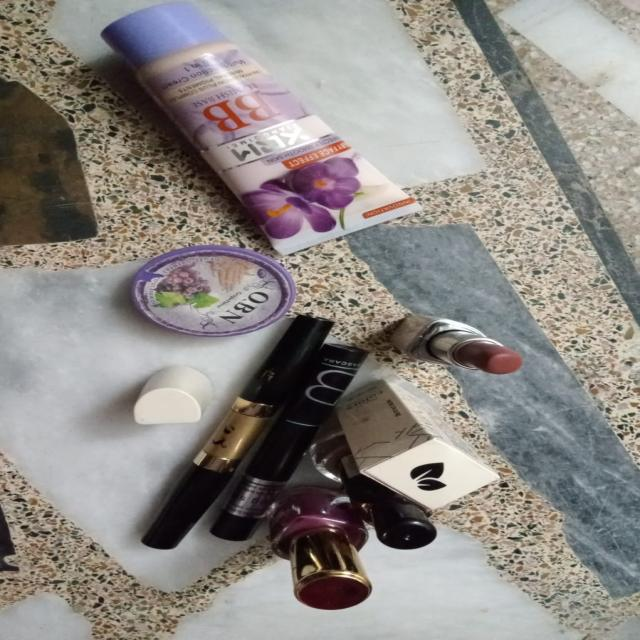bb cream: (87, 2, 444, 256)
lip stick: (378, 299, 537, 386)
mascara: (121, 305, 392, 557)
nail polish remover: (112, 243, 286, 336)
